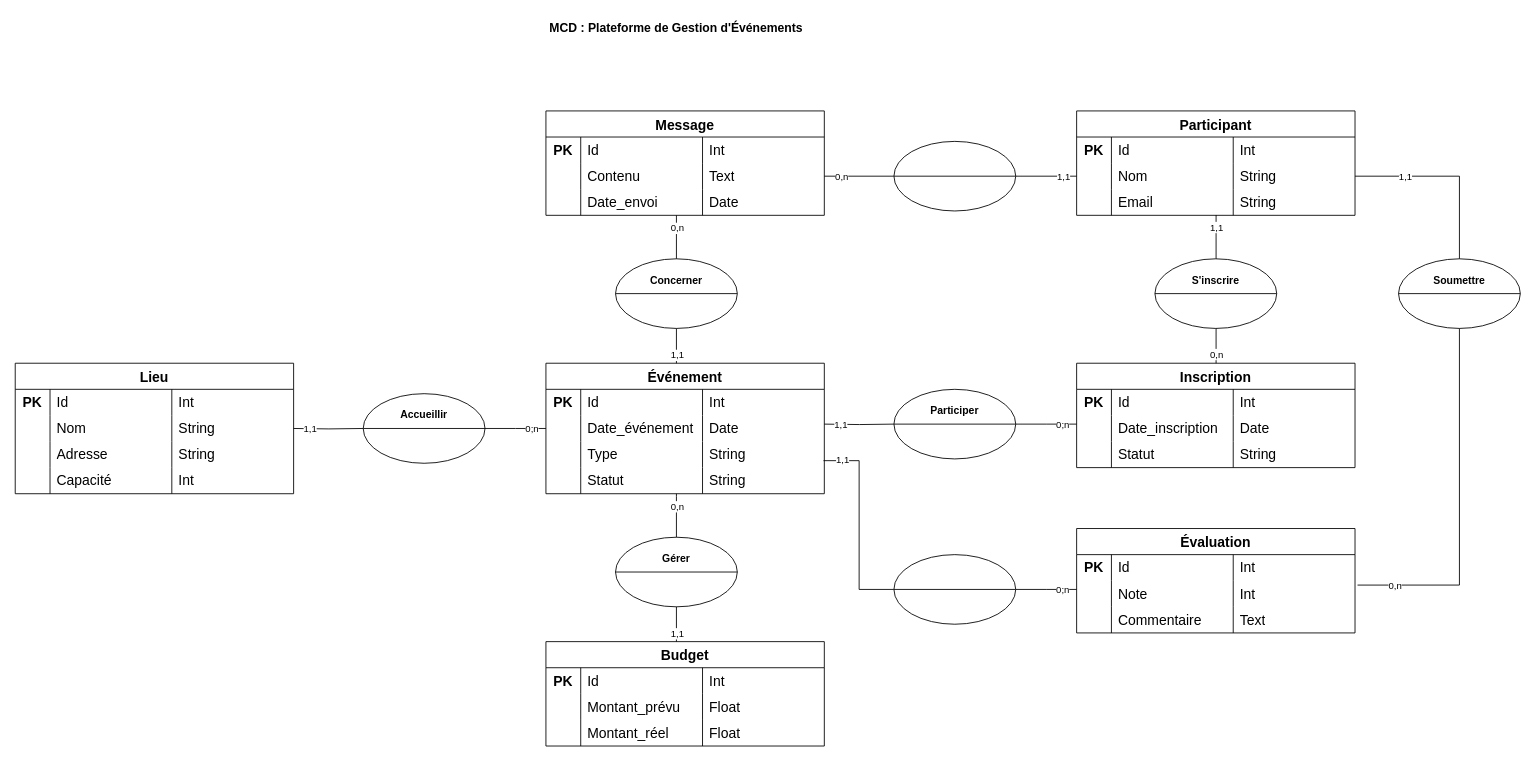
Image size: 1536x761. Some labels were removed from this diagram. Each missing label, with the centre of its shape:
"Envoyer" goes at pixel 954 176.
"Évaluer" goes at pixel 954 589.
